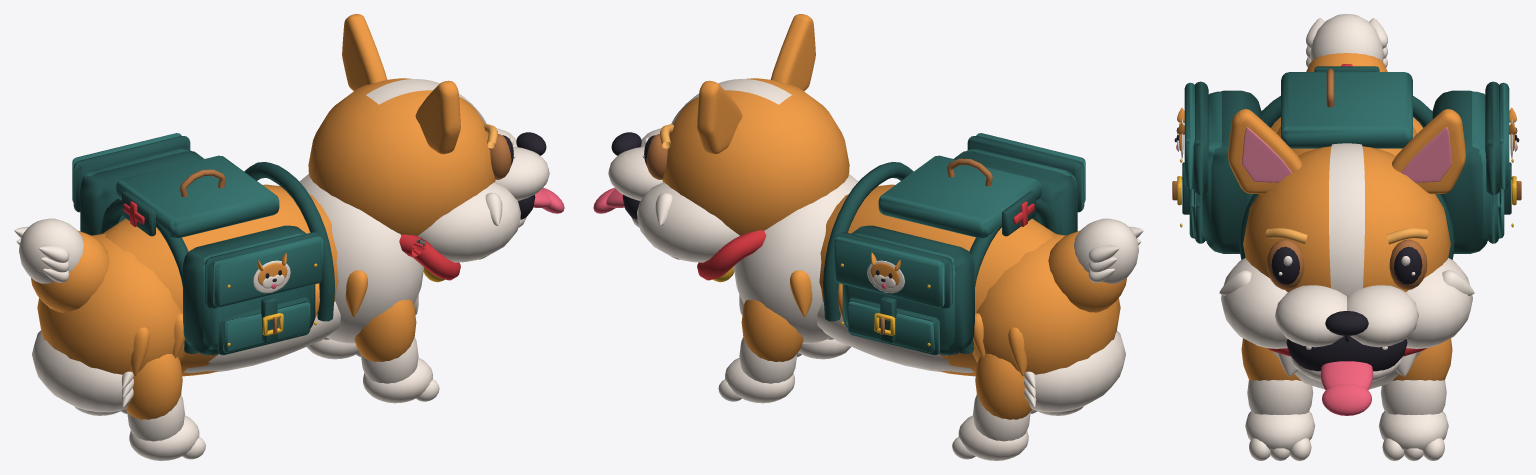
The model's file is char.corgi.glb.
The picture shows the model from 3 angles, left to right: view 1: azimuth 30°, elevation 25°; view 2: azimuth 150°, elevation 25°; view 3: azimuth 270°, elevation 25°; orthographic projection. The views are drawn at different scales.
Visible parts, largest first — view 1: body, packSocket, head, tail, legBR, legFR, legFL; view 2: body, packSocket, head, tail, legBL, legFL, legFR; view 3: head, packSocket, legFL, legFR, tail, body.
Boxes of the visible parts, <box> form: body: <box>32,174,460,412</box>; packSocket: <box>72,133,334,355</box>; head: <box>308,14,564,262</box>; tail: <box>14,218,109,312</box>; legBR: <box>126,354,205,460</box>; legFR: <box>354,299,439,403</box>; legFL: <box>307,338,360,359</box>; body: <box>697,174,1125,412</box>; packSocket: <box>823,133,1085,355</box>; head: <box>593,14,849,262</box>; tail: <box>1048,218,1143,312</box>; legBL: <box>952,354,1031,460</box>; legFL: <box>718,299,803,403</box>; legFR: <box>797,338,850,359</box>; head: <box>1219,109,1474,415</box>; packSocket: <box>1172,64,1521,259</box>; legFL: <box>1379,338,1452,460</box>; legFR: <box>1241,338,1314,460</box>; tail: <box>1306,14,1387,71</box>; body: <box>1266,117,1427,389</box>.
Size of the model in its own units: 1.67 by 0.9532 by 0.847.
